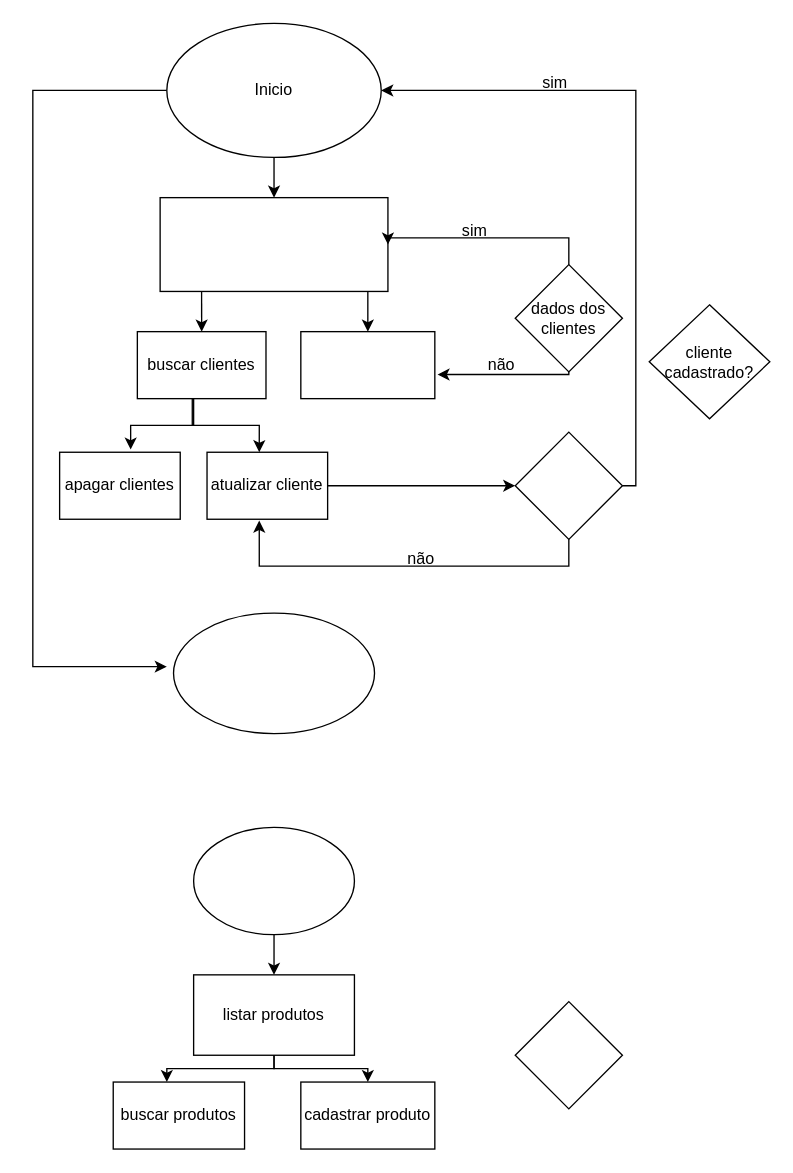
Image size: 793x1173. Some labels were removed from this diagram. Here are the shapes that lost their labels. From the top down, the centre of each, then its label:
At point 273,243: "listar clientes".
At point 367,364: "cadastrar clientes".
At point 568,485: "dados validos".
At point 273,673: "fim".
At point 273,880: "cadastro de produtos".
